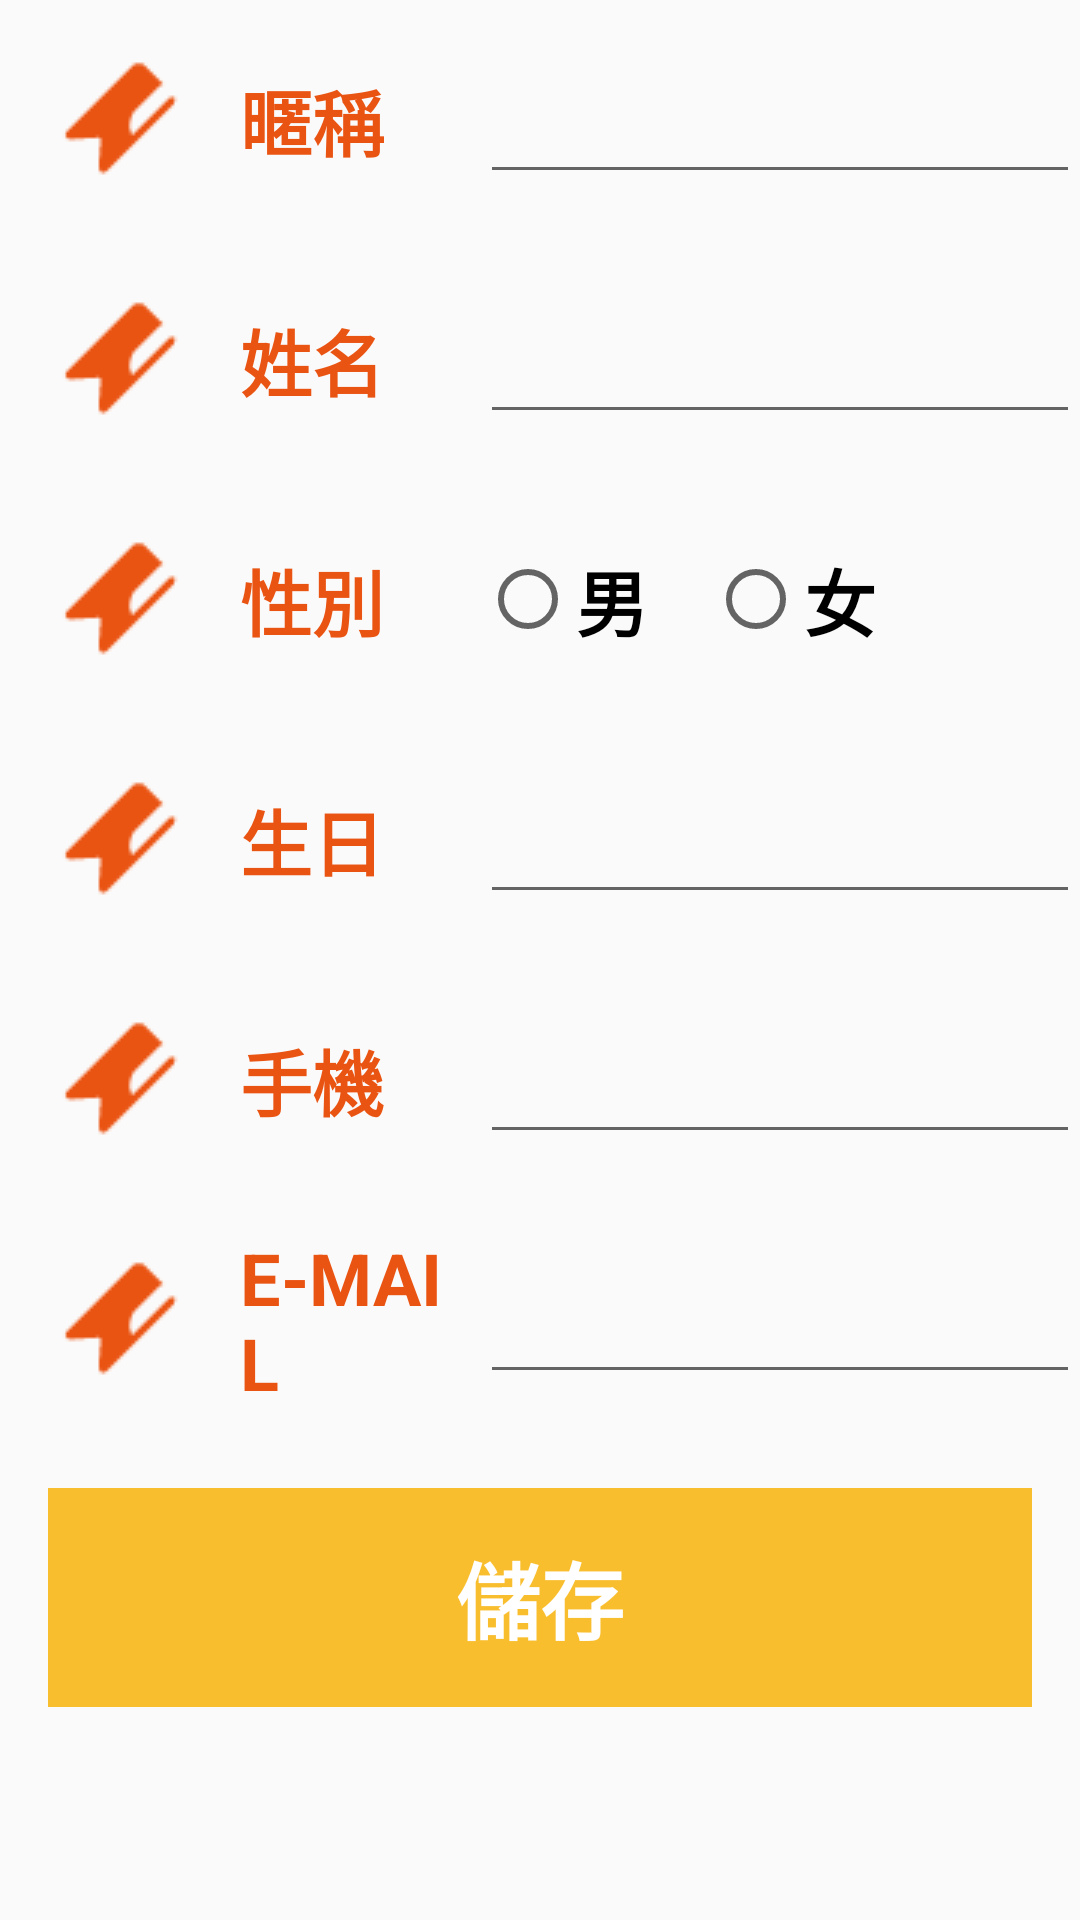

Icon click points for this 1080×1920 phone screenshot, format point (x, y):
edit member: point (121, 118), point (121, 358), point (121, 598), point (121, 838), point (121, 1078), point (121, 1318)
